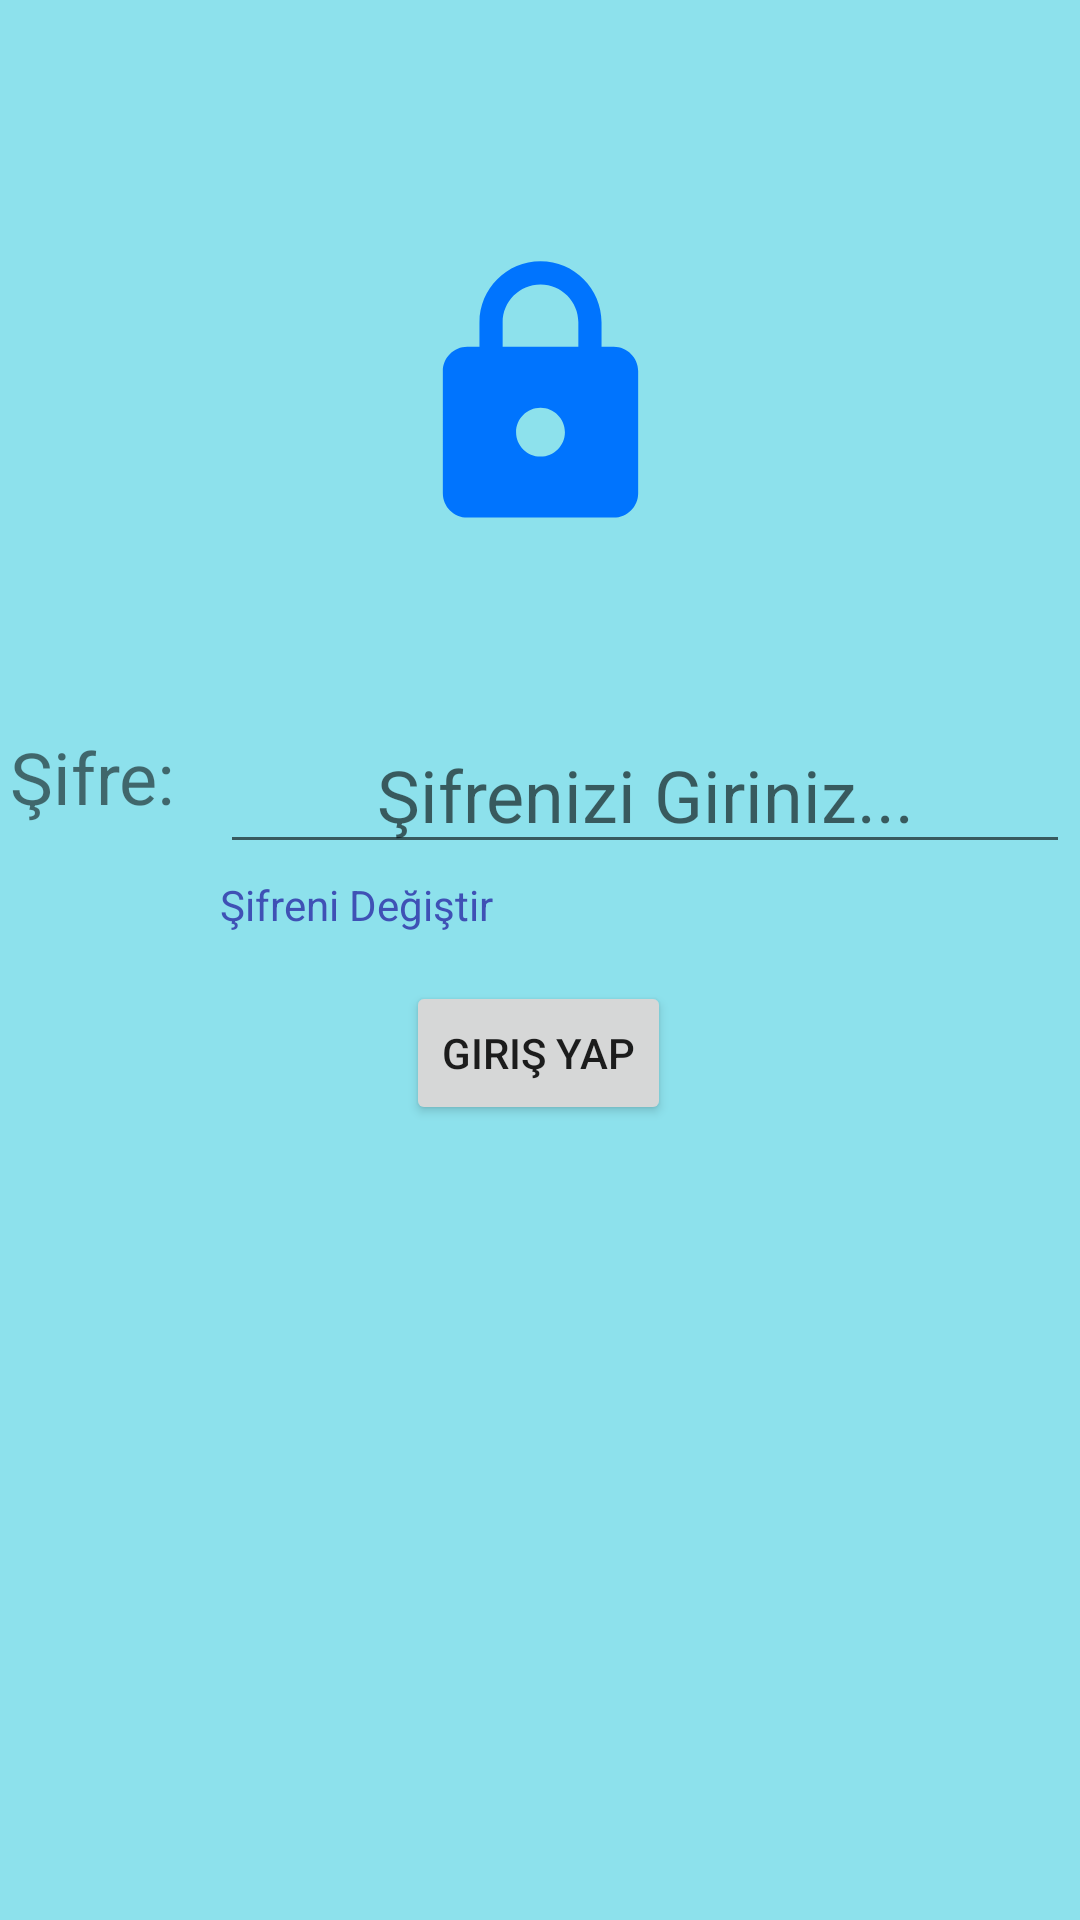

Screen size 1080*1920. Icon name, then its box in pixels as (x1, y1, x2, y2):
kilit ekrani: (443, 261, 638, 518)
